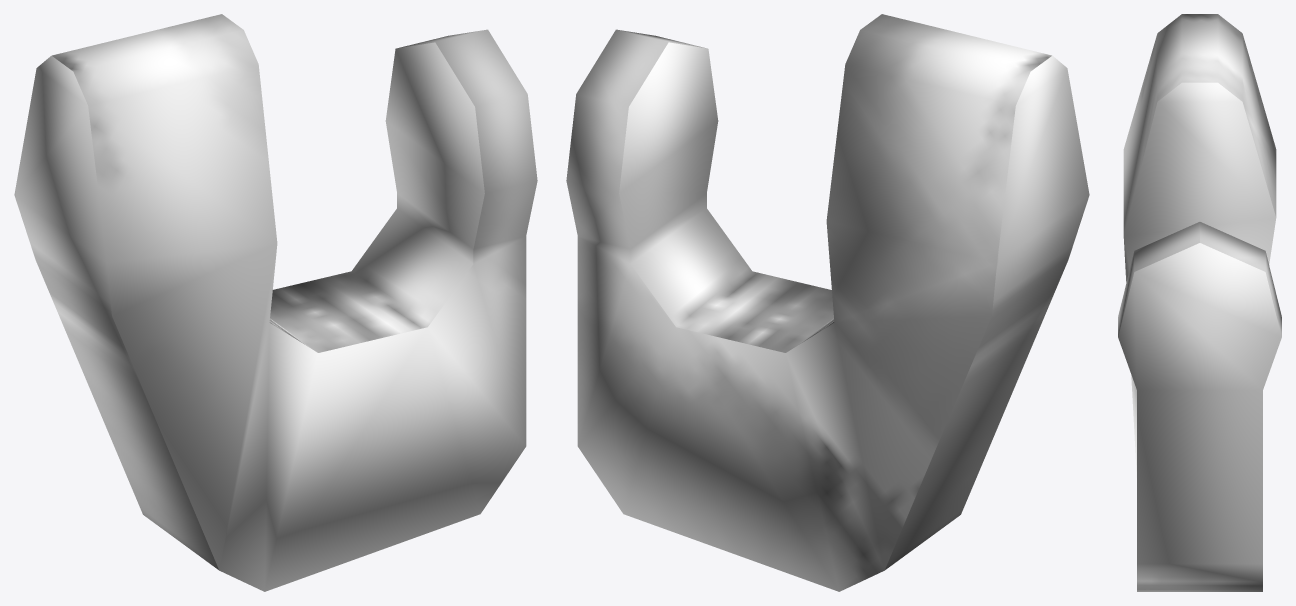
File: mtorso.dae
3 views of the same model, side by side, from view 1: azimuth 30°, elevation 25°; view 2: azimuth 150°, elevation 25°; view 3: azimuth 270°, elevation 25° (orthographic). The views are drawn at different scales.
Visible parts, largest first — view 1: mtorso; view 2: mtorso; view 3: mtorso.
Part boxes in pixels (x1,y1,x2,y2): mtorso: (14, 14, 537, 591); mtorso: (566, 14, 1089, 591); mtorso: (1118, 14, 1281, 591).
Size of the model in its own units: 0.0837 by 0.0337 by 0.1012.
1 material, 1 textured.
